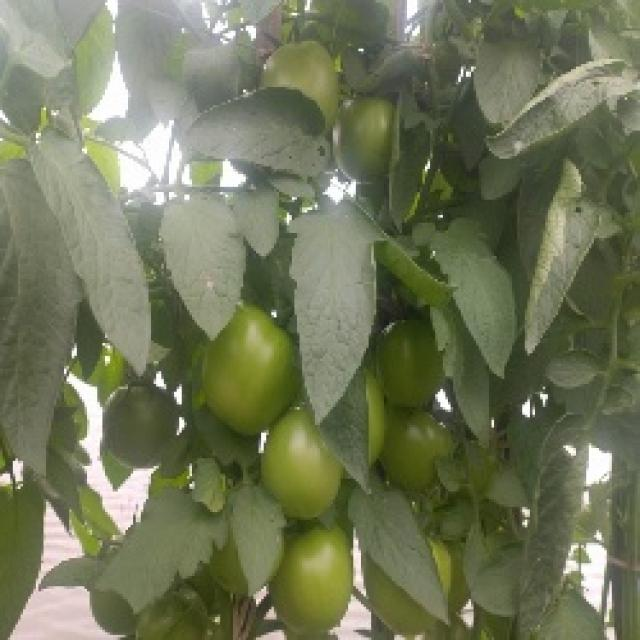tomato: (213, 319, 305, 433), (259, 411, 347, 516), (271, 529, 357, 626), (102, 380, 191, 457), (380, 404, 456, 491), (377, 323, 447, 407), (334, 94, 394, 186), (266, 39, 346, 104), (368, 562, 422, 631), (365, 365, 398, 467), (436, 538, 456, 590)
